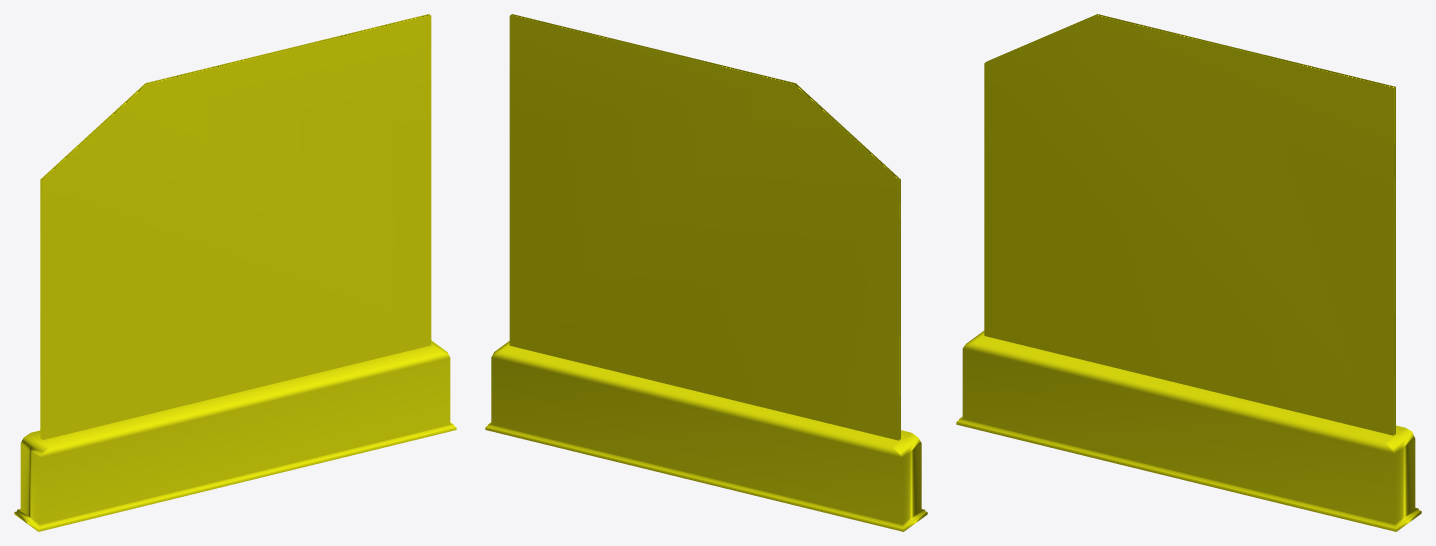
File: LETRERO.fbx
3 views of the same model, side by side, from view 1: azimuth 30°, elevation 25°; view 2: azimuth 150°, elevation 25°; view 3: azimuth 330°, elevation 25° (orthographic). The views are drawn at different scales.
Parts seen in each view (by area): view 1: LETRERO; view 2: LETRERO; view 3: LETRERO.
Boxes of the visible parts, left/top/right/bottom form: LETRERO: left=14, top=14, right=456, bottom=531; LETRERO: left=485, top=14, right=927, bottom=531; LETRERO: left=956, top=14, right=1421, bottom=531.
Size of the model in its own units: 3.83 by 3.59 by 0.381.
